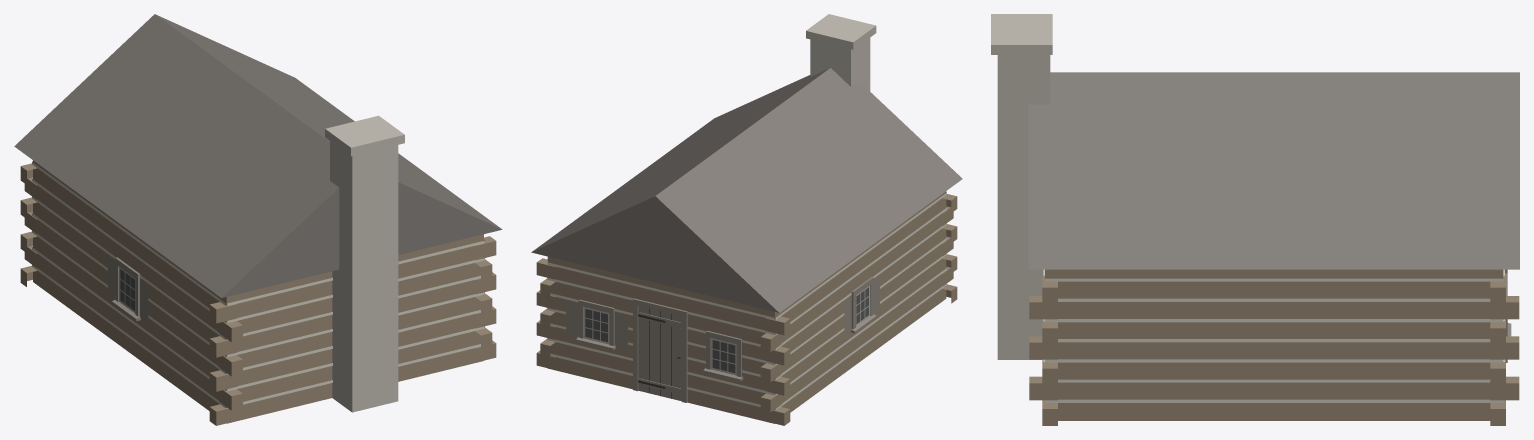
File: recon_1835_south_d1_003__inferred_1835.glb
3 renders of one model, left to right at view 1: azimuth 30°, elevation 25°; view 2: azimuth 150°, elevation 25°; view 3: azimuth 270°, elevation 25°, orthographic. The views are drawn at different scales.
Parts seen in each view (by area): view 1: recon_1835_south_d1_003__inferred_1835; view 2: recon_1835_south_d1_003__inferred_1835; view 3: recon_1835_south_d1_003__inferred_1835.
Part boxes in pixels (bbox=[...]): recon_1835_south_d1_003__inferred_1835: bbox=[14, 14, 502, 425]; recon_1835_south_d1_003__inferred_1835: bbox=[531, 14, 962, 425]; recon_1835_south_d1_003__inferred_1835: bbox=[991, 14, 1519, 425].
Size of the model in its own units: 5.86 by 5.34 by 8.06.
